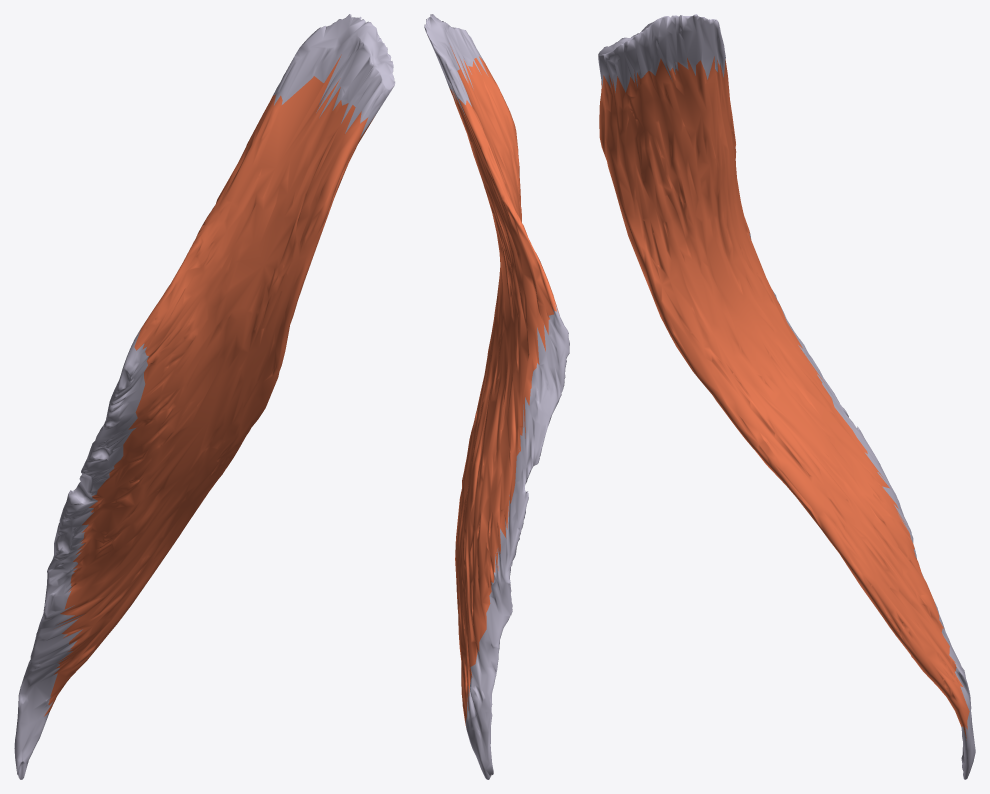
The model's file is Splenius_capitis_left.glb.
3 views of the same model, side by side, from view 1: azimuth 30°, elevation 25°; view 2: azimuth 150°, elevation 25°; view 3: azimuth 270°, elevation 25° (orthographic). The views are drawn at different scales.
Parts seen in each view (by area): view 1: Splenius_capitis_muscle.l_Generated_Mesh_From_X3D.204; view 2: Splenius_capitis_muscle.l_Generated_Mesh_From_X3D.204; view 3: Splenius_capitis_muscle.l_Generated_Mesh_From_X3D.204.
Boxes of the visible parts, <box> form: Splenius_capitis_muscle.l_Generated_Mesh_From_X3D.204: <box>14,14,395,779</box>; Splenius_capitis_muscle.l_Generated_Mesh_From_X3D.204: <box>424,14,569,779</box>; Splenius_capitis_muscle.l_Generated_Mesh_From_X3D.204: <box>598,14,975,779</box>.
Size of the model in its own units: 0.0613 by 0.2156 by 0.0844.
